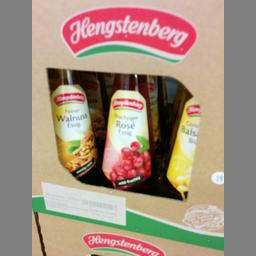vinegar: (100, 73, 158, 194), (46, 68, 98, 182), (164, 78, 204, 206)
